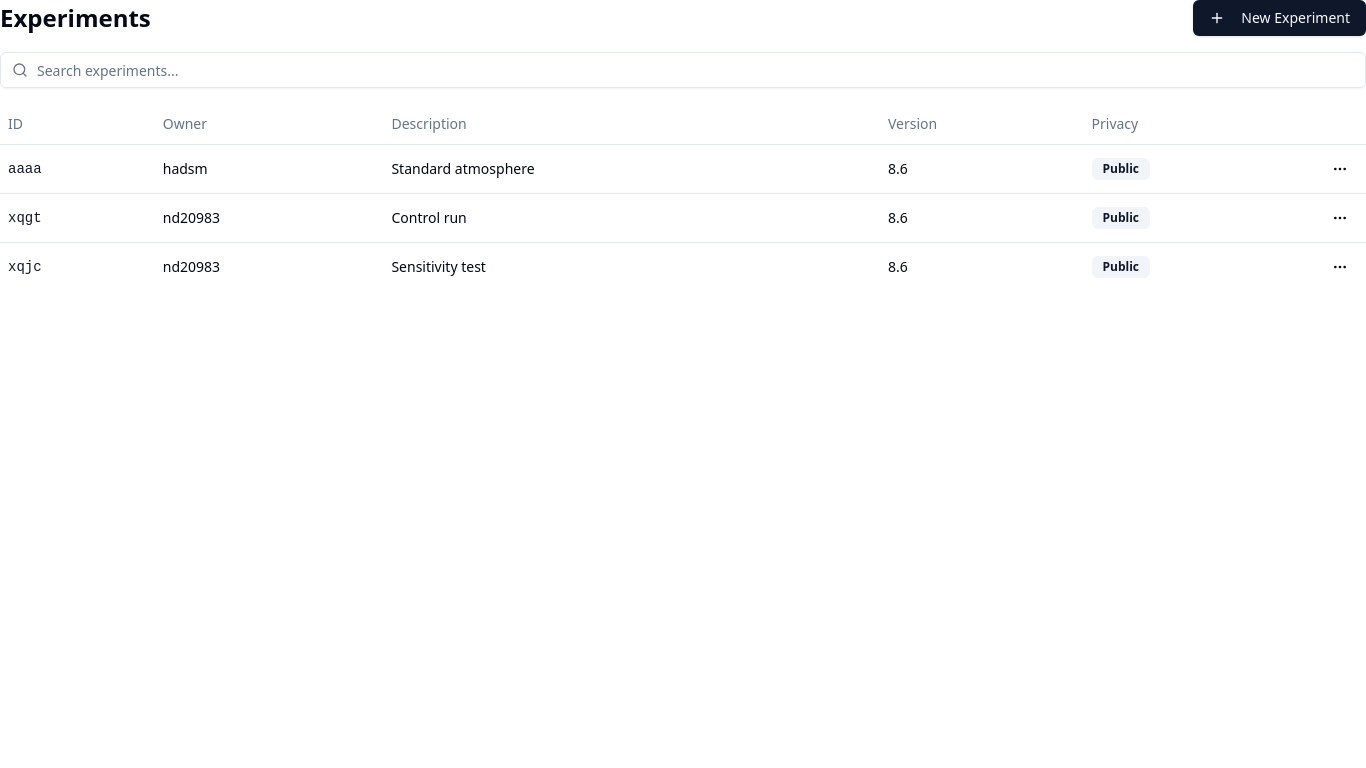
Scenario: Experiment CRUD flow › shows delete confirmation dialog
Expected: the link "xqgt" is shown, [8, 210, 42, 226]
Expected: the row "xqgt nd20983 Control run 8.6 Public" is shown, [0, 193, 1365, 242]
Click the button named "Actions" in the row of "xqgt".
click(1340, 218)  # box [1324, 202, 1356, 234]
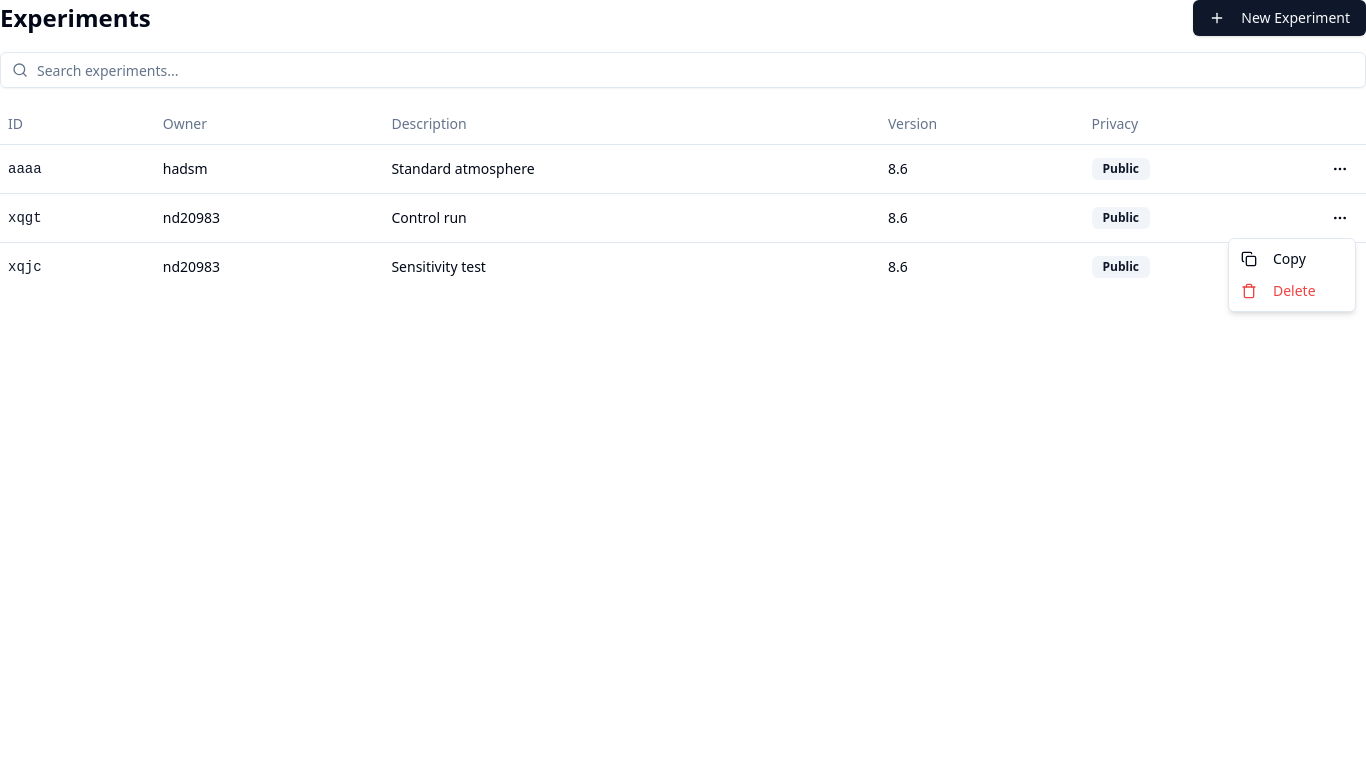
# Click delete in dropdown
Click the menu item "Delete".
click(1278, 290)  # box [1241, 281, 1316, 300]
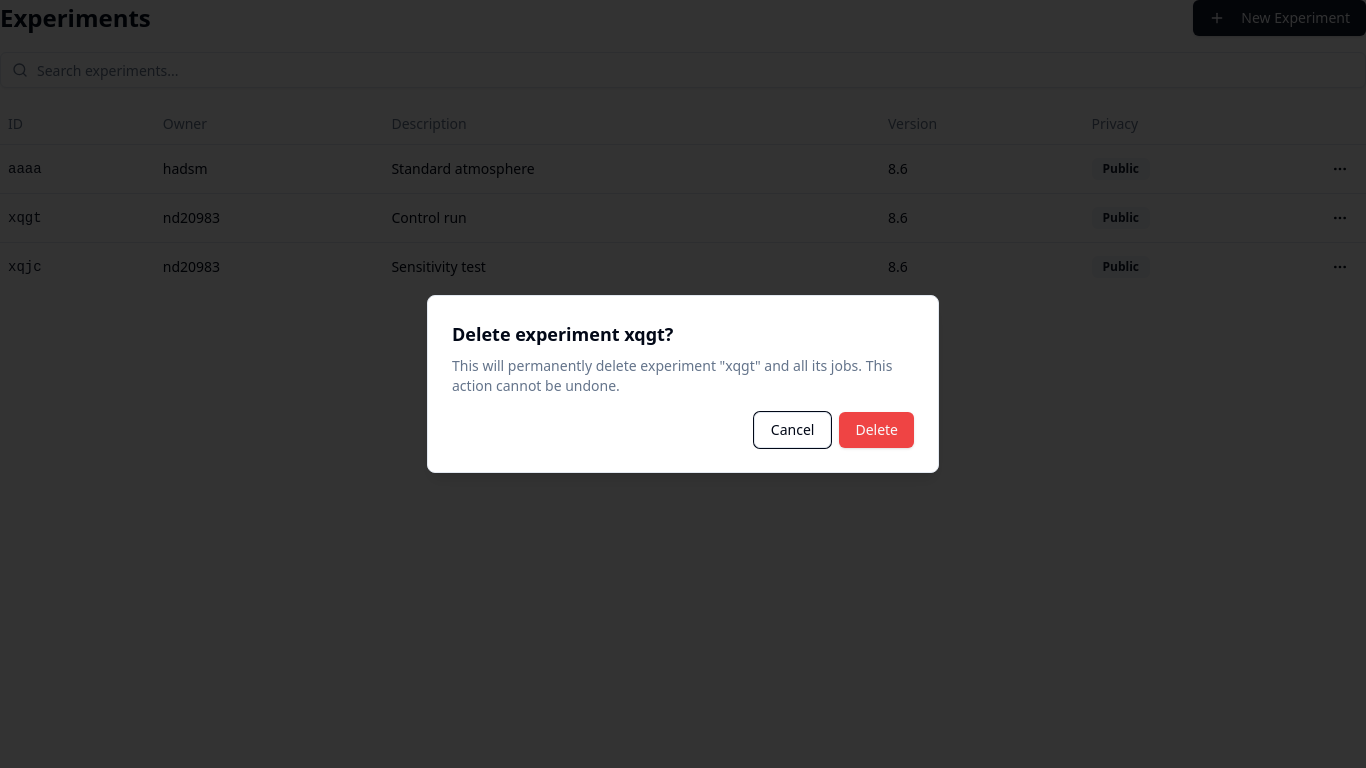
Expected: the heading "Delete experiment xqgt?" is shown, [452, 322, 674, 346]
